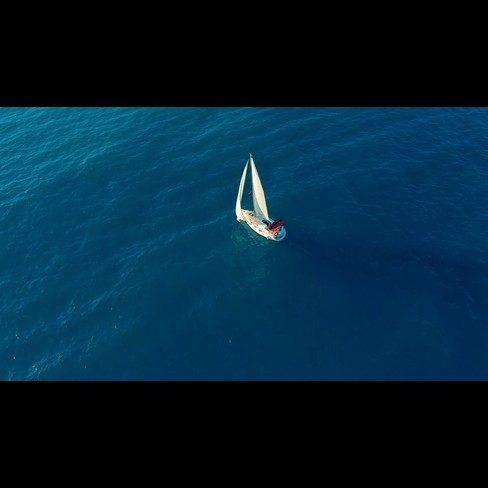boat: (228, 144, 289, 248)
